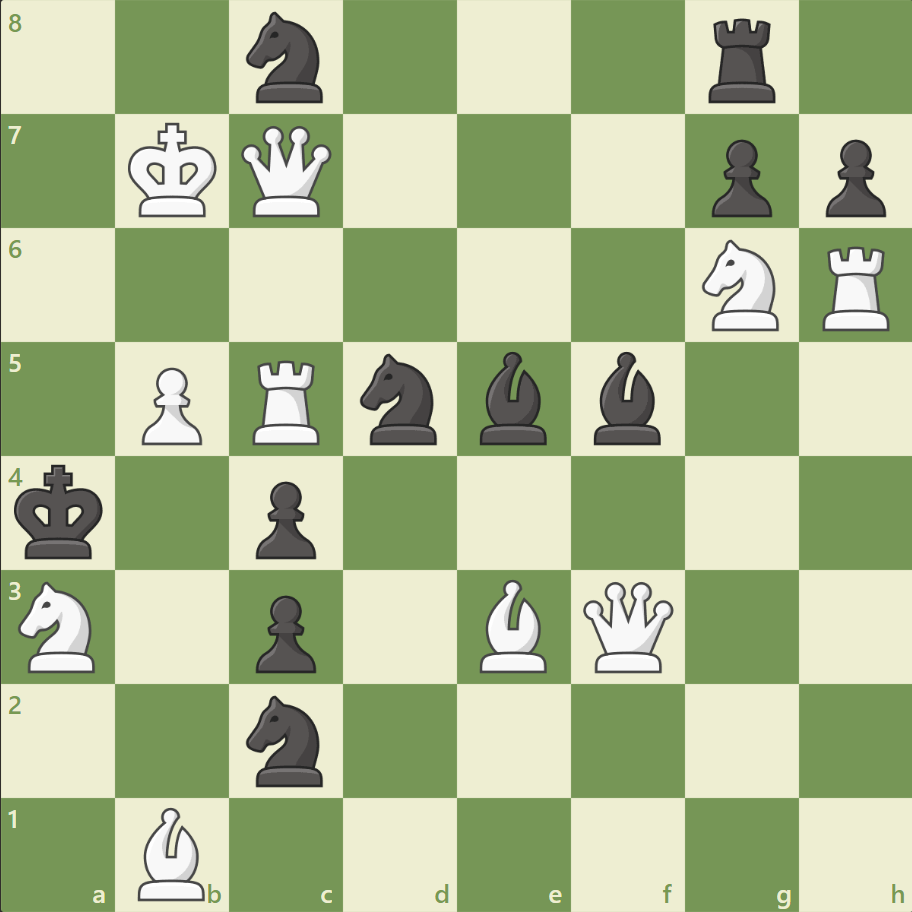B: (131, 801, 215, 904), (471, 574, 555, 676)
K: (124, 117, 224, 225)
N: (692, 234, 789, 337), (11, 575, 108, 677)
P: (133, 359, 208, 450)
Q: (237, 122, 336, 222), (578, 576, 677, 676)
R: (814, 239, 897, 336), (246, 352, 329, 449)
b: (471, 347, 555, 449), (585, 347, 669, 449)
k: (11, 458, 111, 566)
n: (351, 348, 449, 450), (238, 7, 335, 110), (238, 688, 335, 791)
p: (701, 132, 776, 223), (247, 473, 322, 564), (247, 586, 322, 677), (815, 132, 889, 223)
r: (700, 12, 783, 109)
